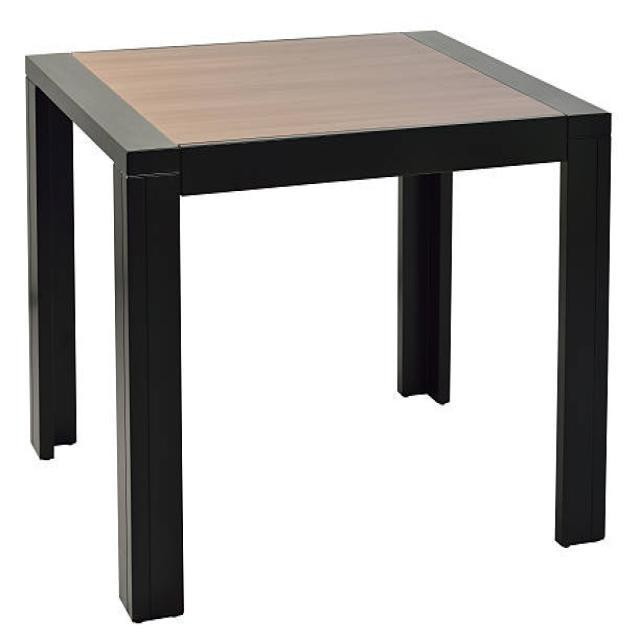table: (24, 28, 612, 622)
